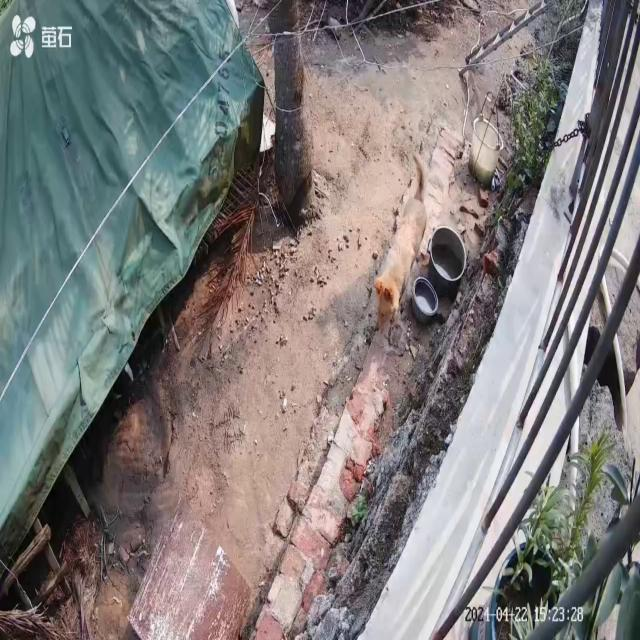dog: (375, 152, 430, 332)
